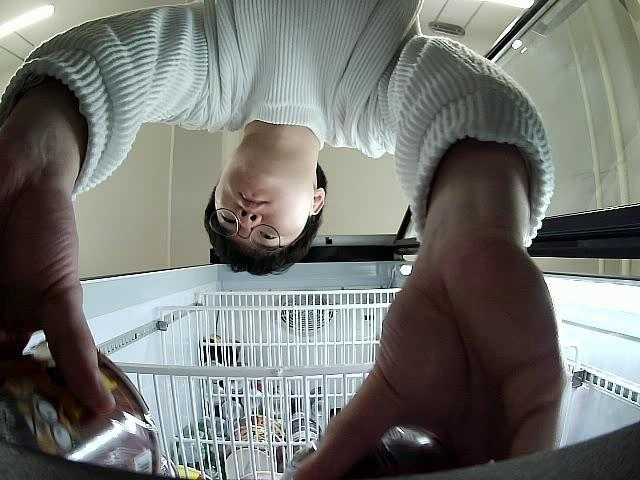06_nuguri_S: (0, 340, 164, 480)
